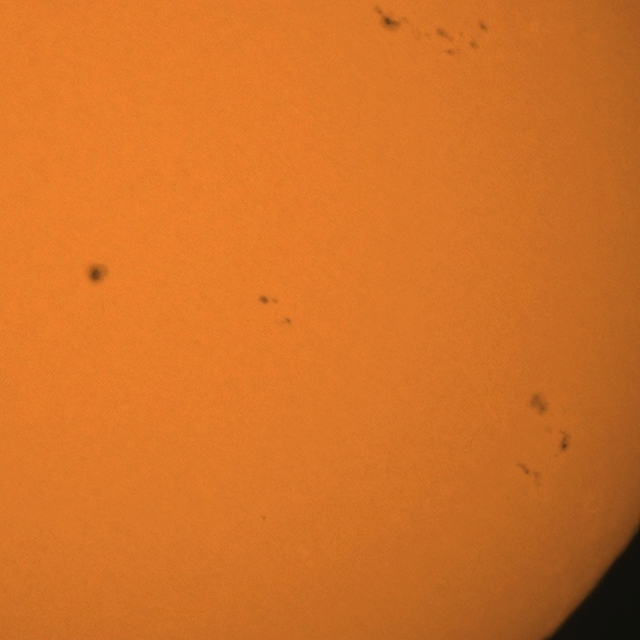sunspot: (428, 27, 480, 58), (374, 2, 409, 32), (528, 391, 552, 418), (515, 461, 542, 482), (86, 264, 108, 286), (558, 428, 570, 452), (258, 294, 279, 306), (282, 317, 292, 326)
